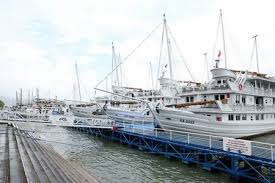tau_dansu: (159, 65, 275, 141), (94, 84, 164, 129)
